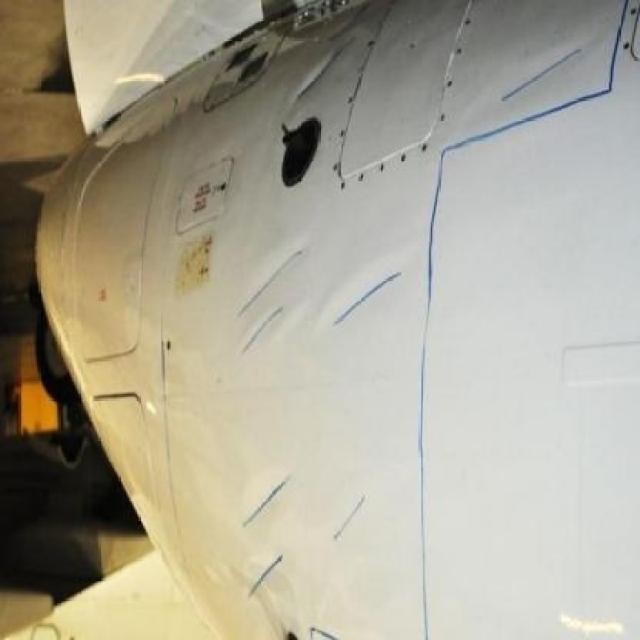dent: (496, 45, 594, 102), (232, 248, 303, 317), (329, 262, 403, 324), (300, 43, 349, 91), (246, 475, 294, 523), (243, 306, 286, 351), (245, 553, 281, 602), (337, 494, 370, 540)
